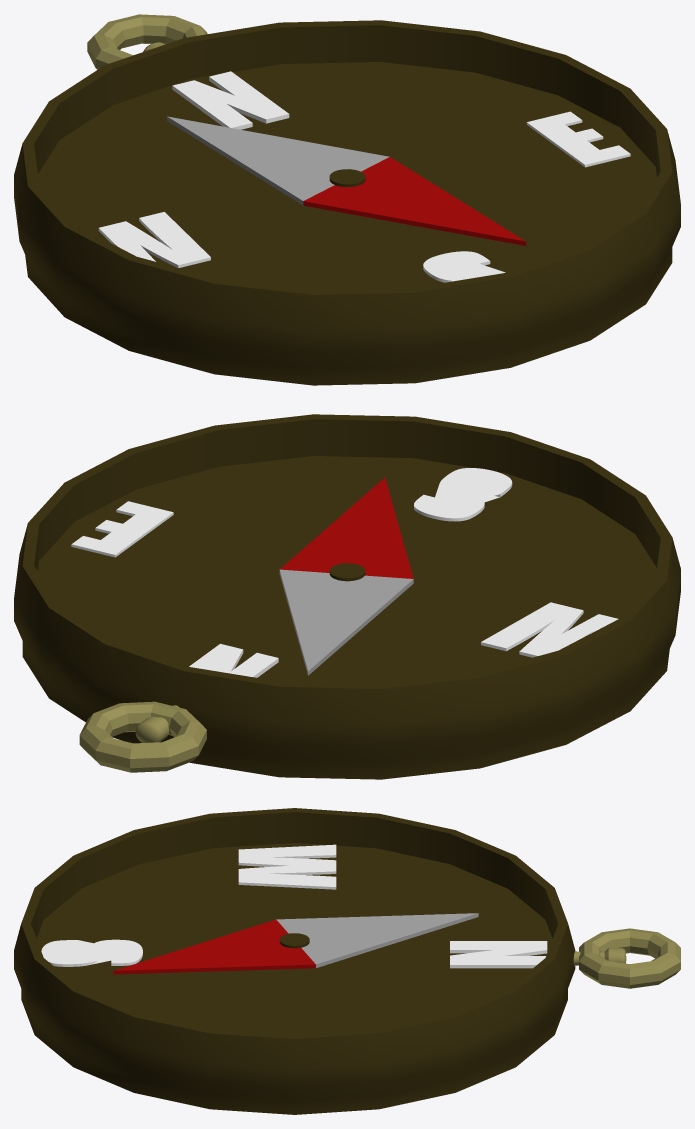
Rendered from compass.fbx.
3 renders of one model, top to bottom at view 1: azimuth 30°, elevation 25°; view 2: azimuth 150°, elevation 25°; view 3: azimuth 270°, elevation 25°, orthographic. The views are drawn at different scales.
Parts seen in each view (by area): view 1: pCylinder1, pPrism1, typeMesh1, typeMesh3, pTorus1, typeMesh4, typeMesh2; view 2: pCylinder1, pPrism1, pTorus1, typeMesh3, typeMesh2, typeMesh4, typeMesh1, pCylinder2; view 3: pCylinder1, pPrism1, pTorus1, typeMesh3, typeMesh1, typeMesh2.
Boxes of the visible parts, <box> form: pCylinder1: <box>14,20,680,385</box>; pPrism1: <box>167,116,526,245</box>; typeMesh1: <box>172,71,289,129</box>; typeMesh3: <box>98,212,210,267</box>; pTorus1: <box>87,14,207,69</box>; typeMesh4: <box>526,111,630,167</box>; typeMesh2: <box>423,251,505,282</box>; pCylinder1: <box>14,414,680,779</box>; pPrism1: <box>279,477,413,675</box>; pTorus1: <box>79,701,206,772</box>; typeMesh3: <box>481,602,618,657</box>; typeMesh2: <box>414,468,512,521</box>; typeMesh4: <box>71,501,173,557</box>; typeMesh1: <box>189,643,278,677</box>; pCylinder2: <box>135,705,179,742</box>; pCylinder1: <box>14,808,575,1114</box>; pPrism1: <box>113,913,478,974</box>; pTorus1: <box>579,928,680,988</box>; typeMesh3: <box>238,844,336,889</box>; typeMesh1: <box>450,941,547,968</box>; typeMesh2: <box>41,939,142,966</box>.
Bounding box in the file's own units: 2.05 × 0.306 × 2.44.
